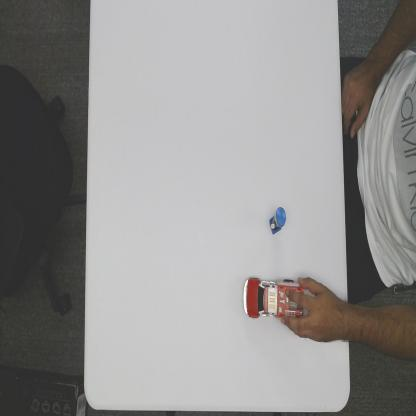Firetruck: (242, 275, 305, 322)
Hand: (282, 278, 342, 344)
